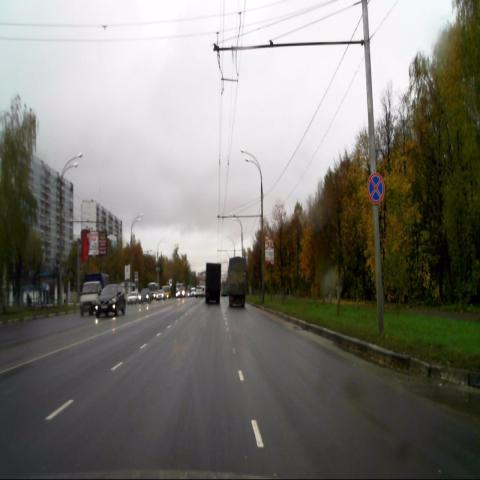3_27: (367, 172, 384, 204)
